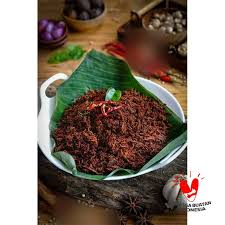rendang: (50, 80, 183, 186)
